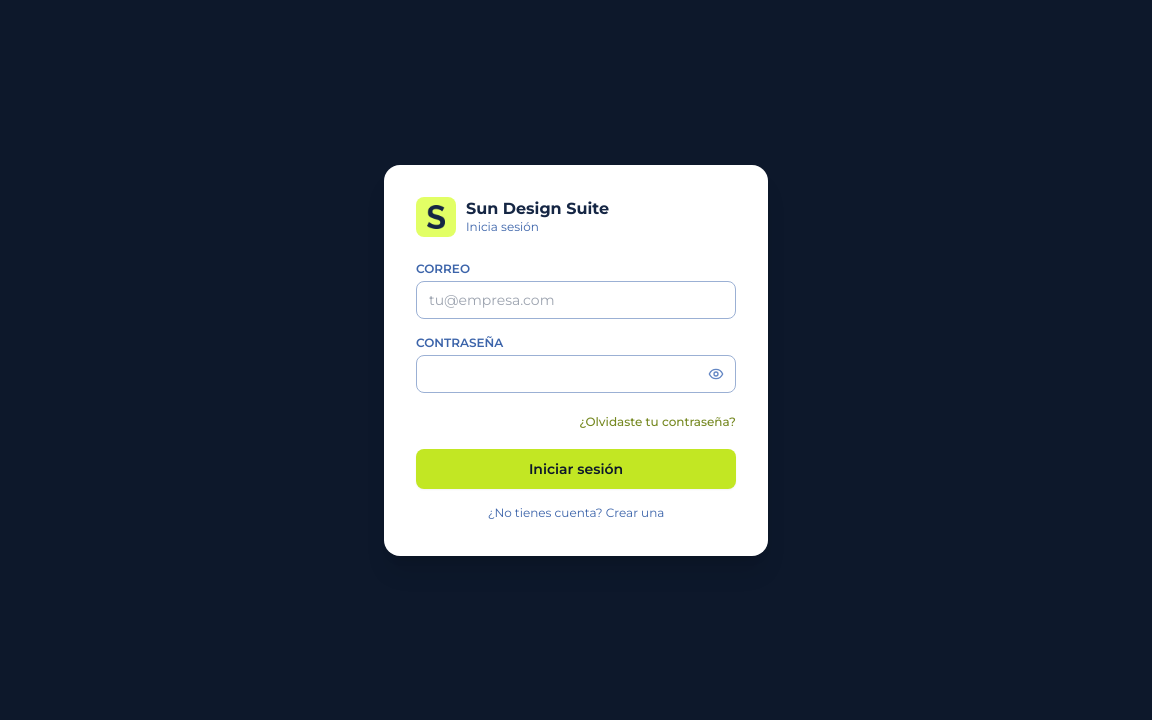
Scenario: iniciar sesión › el error sale en español y señala la recuperación
The image size is (1152, 720).
Type "miguelm@solenium.co" into the field labelled "Correo" at [576, 300], box [416,280,736,318]
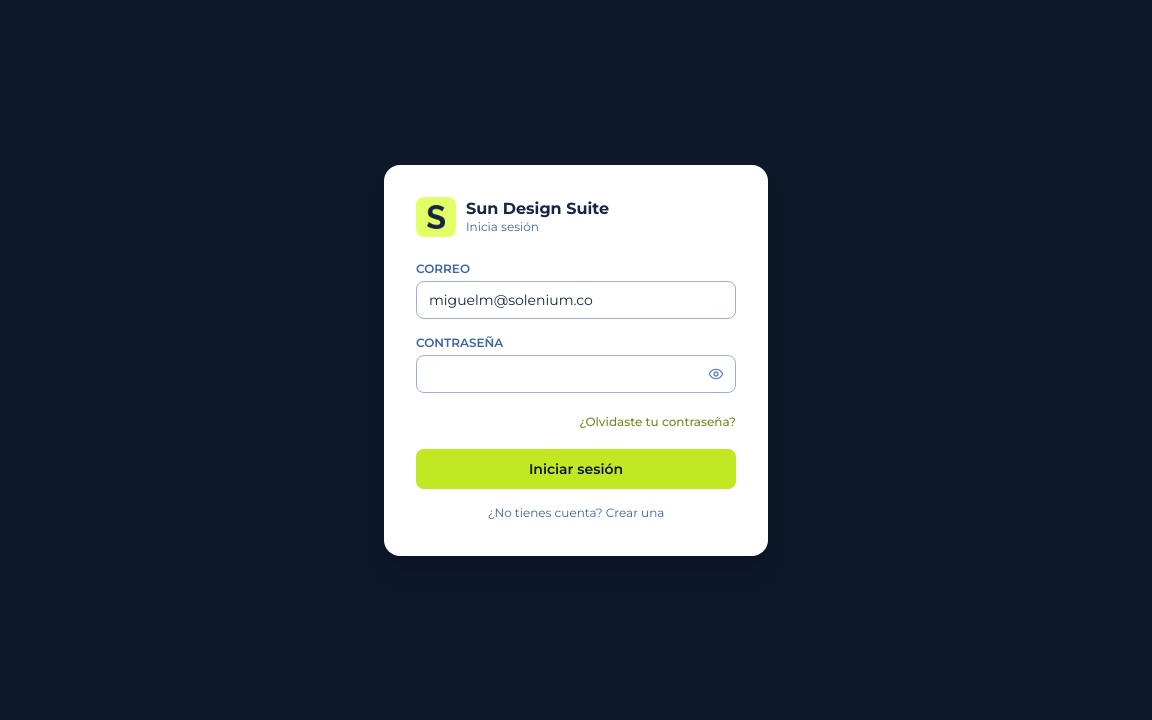
Type "loquesea" into the password field labelled "Contraseña" at [576, 374], box [416,354,736,392]
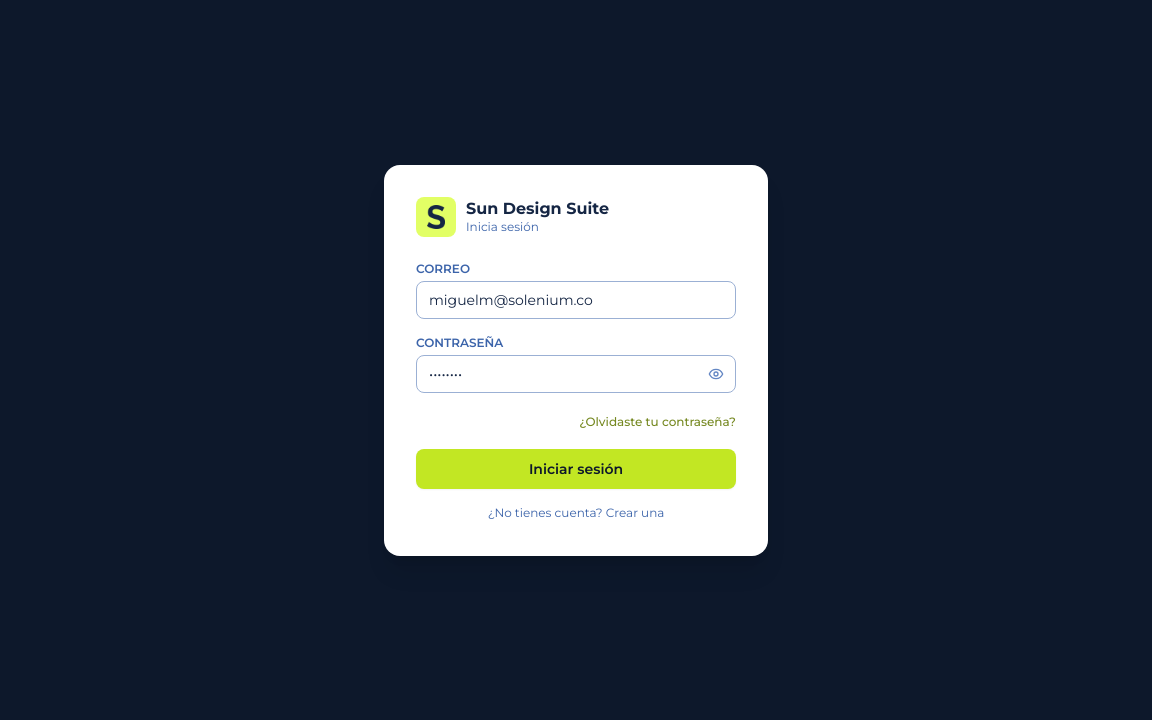
Click the button "Iniciar sesión" at [576, 468], box [416,448,736,488]
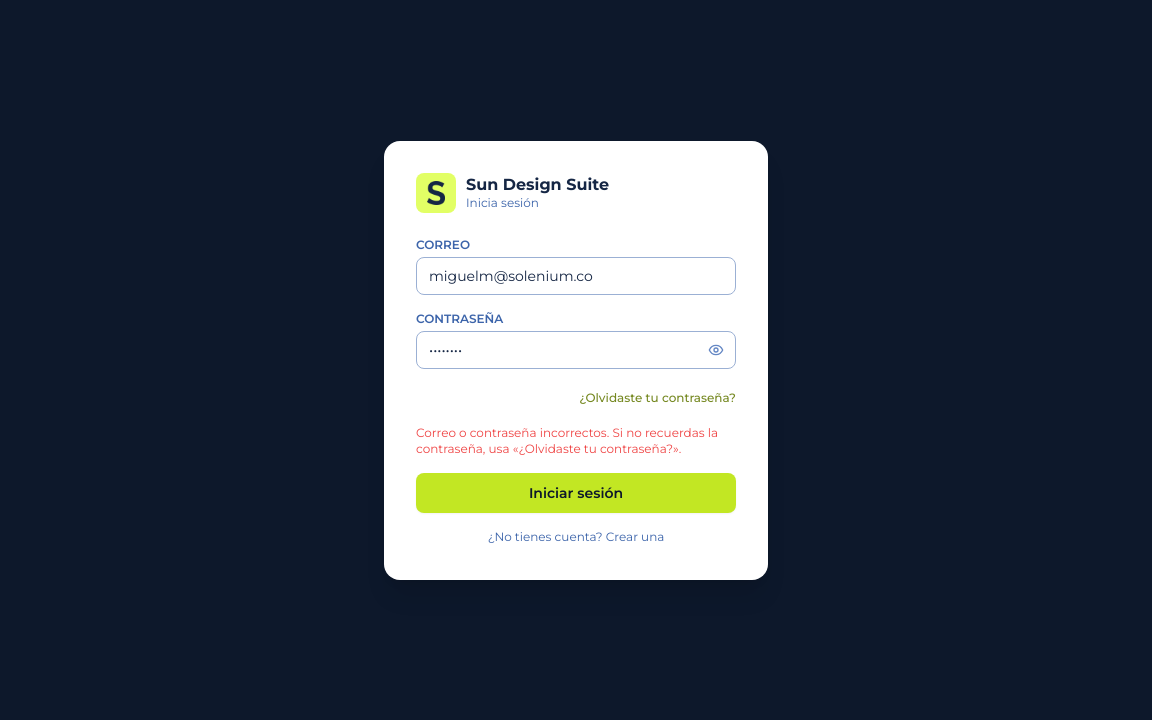
Result: the message shows "Correo o contraseña incorrectos" at [416,424,718,456]
